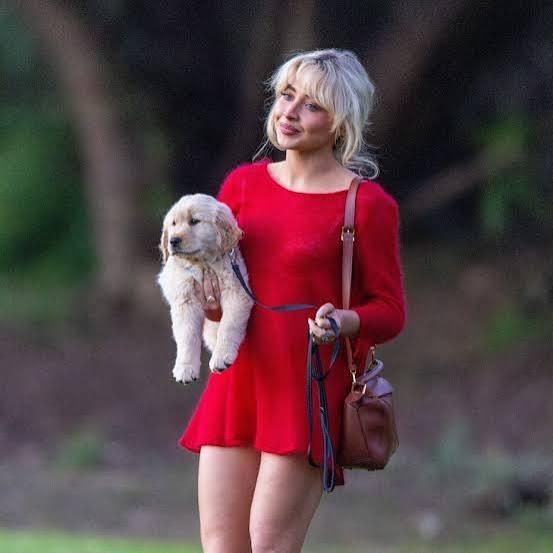non-dog: (178, 43, 411, 553)
puppy-dog: (158, 193, 252, 382)
